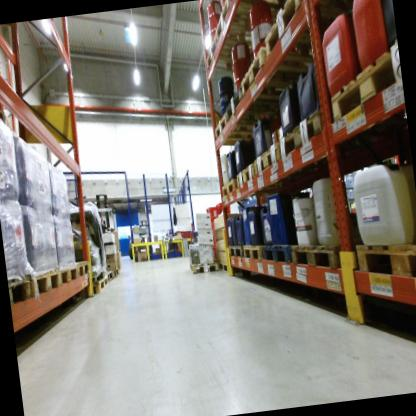forklift: (93, 182, 119, 247)
pallet: (319, 34, 407, 133), (236, 33, 330, 101), (261, 0, 357, 59), (271, 100, 331, 161), (349, 233, 416, 284), (209, 105, 286, 148), (287, 229, 350, 277), (200, 25, 263, 72), (223, 81, 288, 125), (208, 0, 268, 39), (7, 264, 40, 309), (259, 232, 296, 270), (250, 144, 285, 182), (29, 261, 62, 299), (232, 159, 258, 200), (216, 253, 250, 279), (84, 276, 110, 300), (217, 169, 236, 201), (187, 258, 221, 275), (243, 239, 265, 262), (88, 262, 108, 287), (58, 262, 78, 285), (75, 258, 92, 283), (226, 236, 245, 257), (102, 269, 115, 288), (0, 94, 8, 122), (109, 266, 122, 281)
